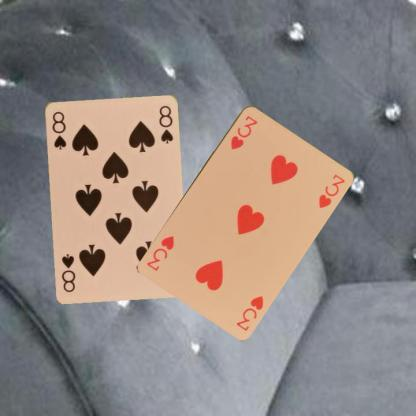3h: (233, 292, 264, 333), (228, 112, 258, 150)
8s: (49, 108, 68, 150)
